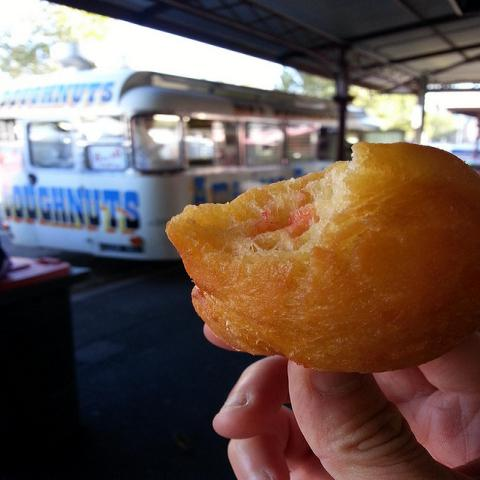bus: (0, 41, 343, 275)
